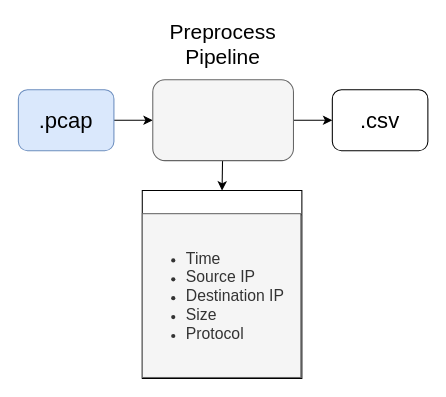
Image size: 446x397. Some labels were removed from this diagram. The box of each missing label's shape, as (x1, y1, x2, y2) in pixels:
Raw feature Extractor: (152, 79, 293, 161)
Raw Features: (141, 190, 302, 379)
